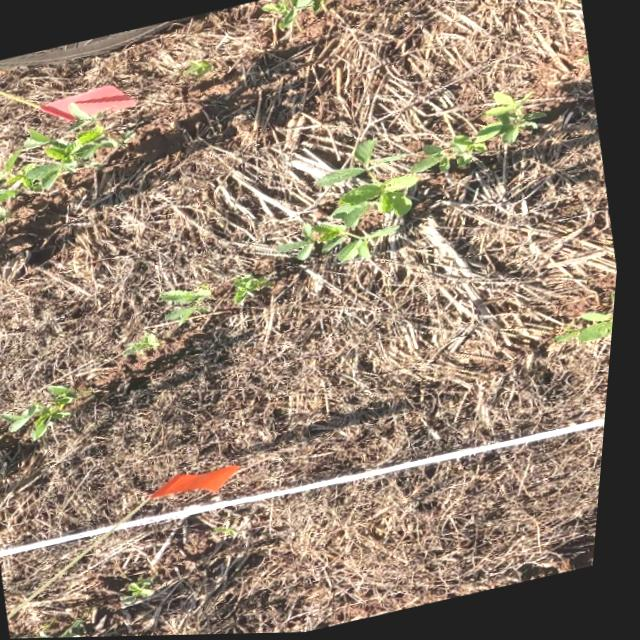soy_plant: (281, 96, 541, 264), (0, 105, 130, 223), (9, 385, 85, 439), (166, 287, 214, 326), (263, 0, 323, 30), (236, 276, 269, 304)
